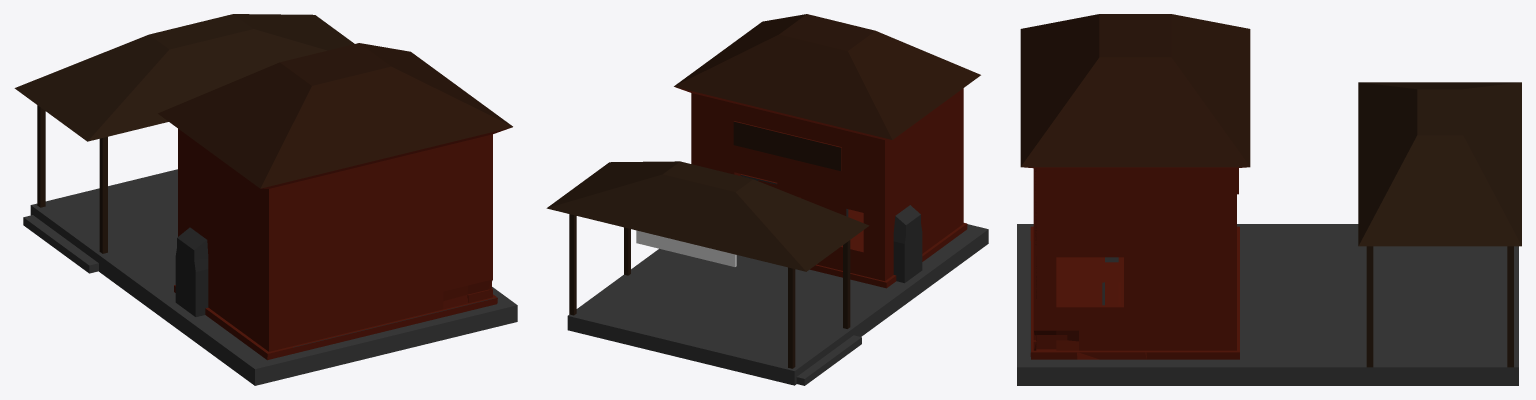
The model's file is station2.fbx.
The picture shows the model from 3 angles, left to right: view 1: azimuth 30°, elevation 25°; view 2: azimuth 150°, elevation 25°; view 3: azimuth 270°, elevation 25°; orthographic projection. The views are drawn at different scales.
Parts seen in each view (by area): view 1: Grid.001, Cube.002, Cube.001; view 2: Grid.001, Cube.001, Cube.002, Cube; view 3: Grid.001, Cube.001, Cube.002.
Part boxes in pixels (box(x1,y1,x2,y2)): Grid.001: box(158, 43, 512, 360); Cube.002: box(14, 14, 354, 253); Cube.001: box(23, 169, 517, 385); Grid.001: box(674, 14, 980, 288); Cube.001: box(567, 224, 988, 385); Cube.002: box(546, 161, 869, 368); Cube: box(636, 230, 736, 266); Grid.001: box(1020, 14, 1250, 359); Cube.001: box(1017, 224, 1518, 385); Cube.002: box(1358, 82, 1521, 367).
Size of the model in its own units: 526 by 419 by 684.
